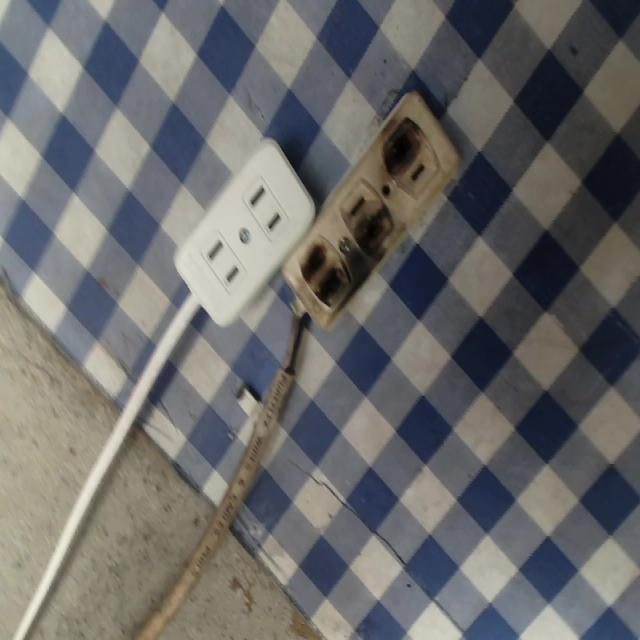-: (297, 234, 345, 318), (382, 116, 422, 181), (357, 202, 394, 258)
